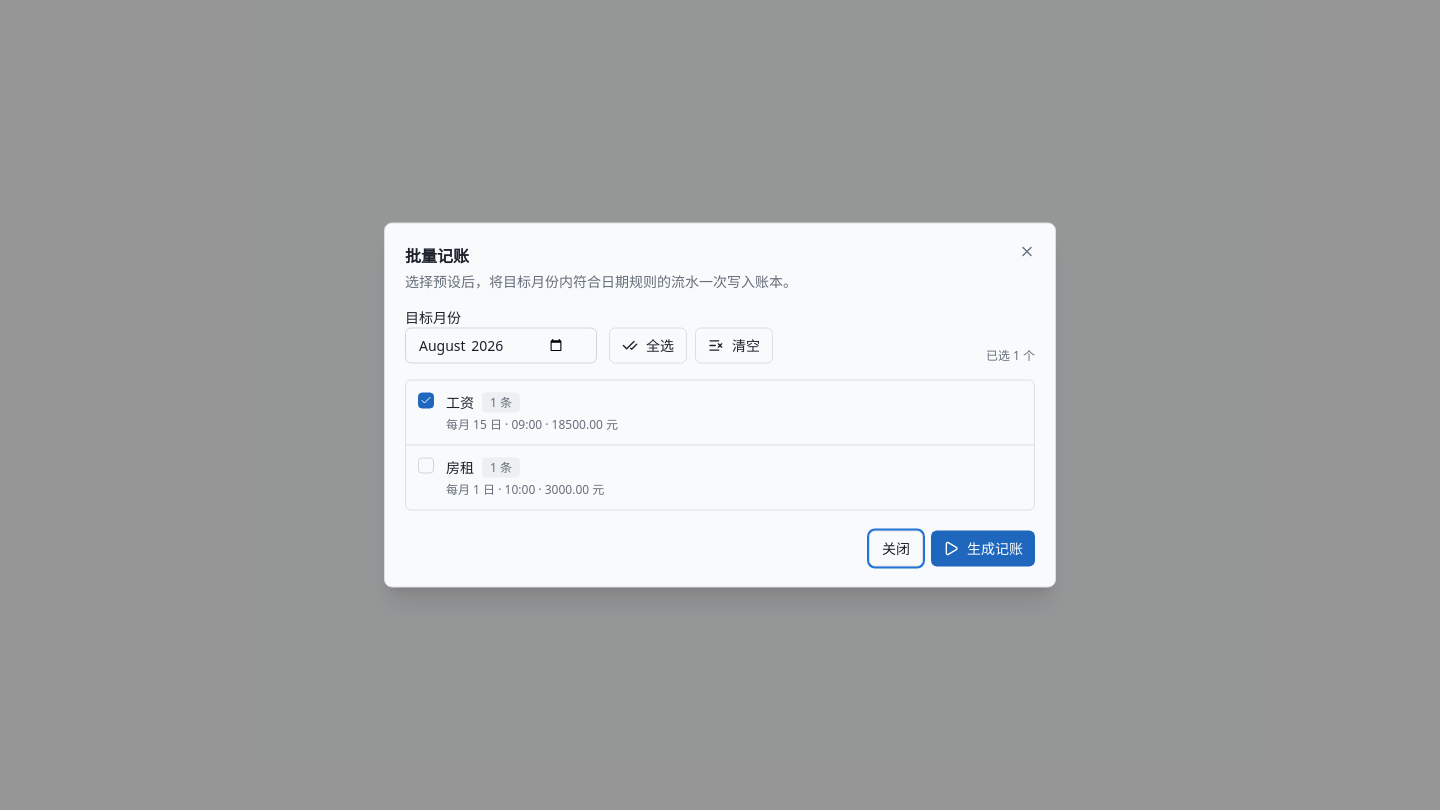
Test: BatchPresetDialog › uses default selection and passes the edited target month
The width and height of the screenshot is (1440, 810).
Check: the text "工资" is shown, box [446,392,474,412]
Replace the text in the field labelled "目标月份" with "2026-09" at (501, 346), box [405,328,597,364]
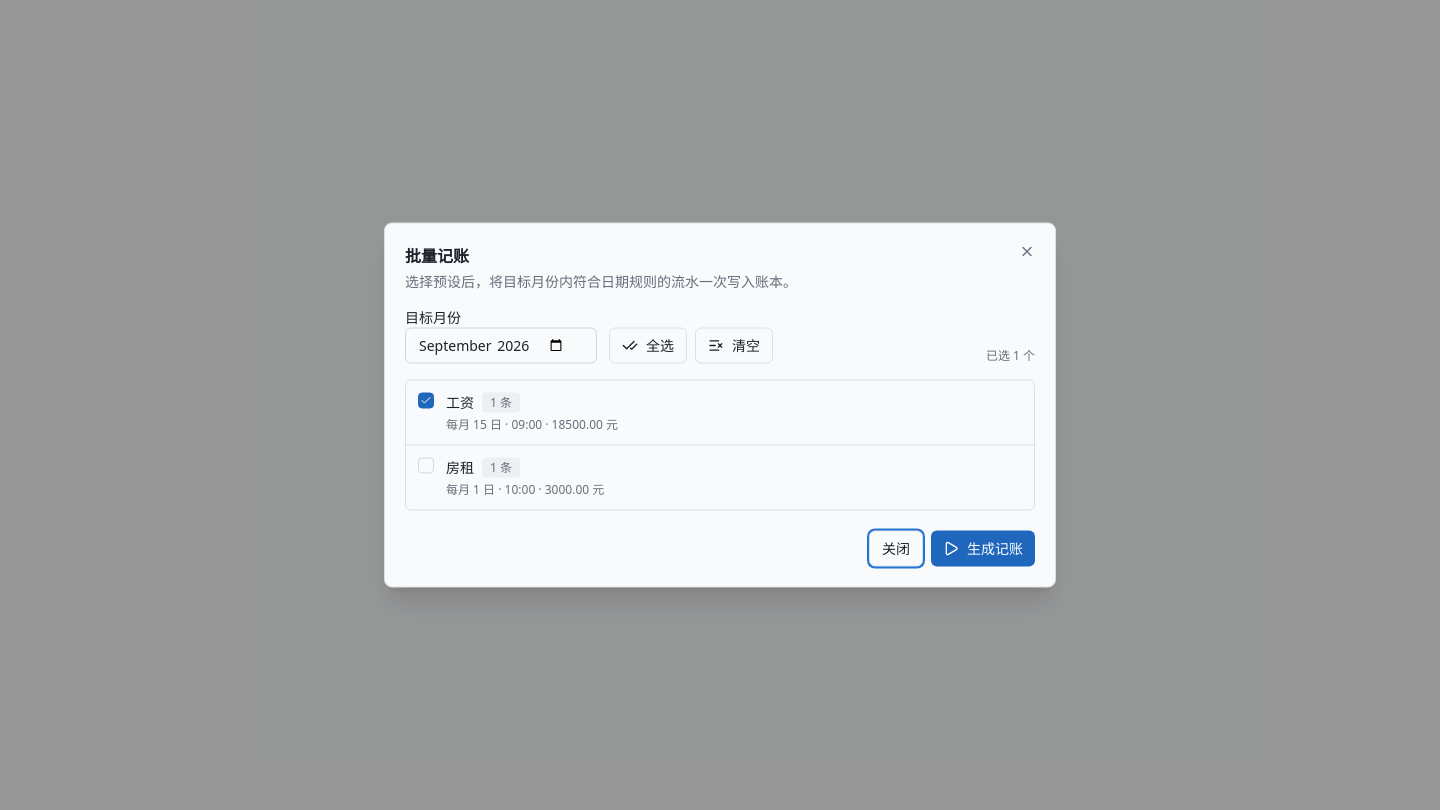
Click the button "生成记账".
click(983, 548)  # box [931,530,1035,566]
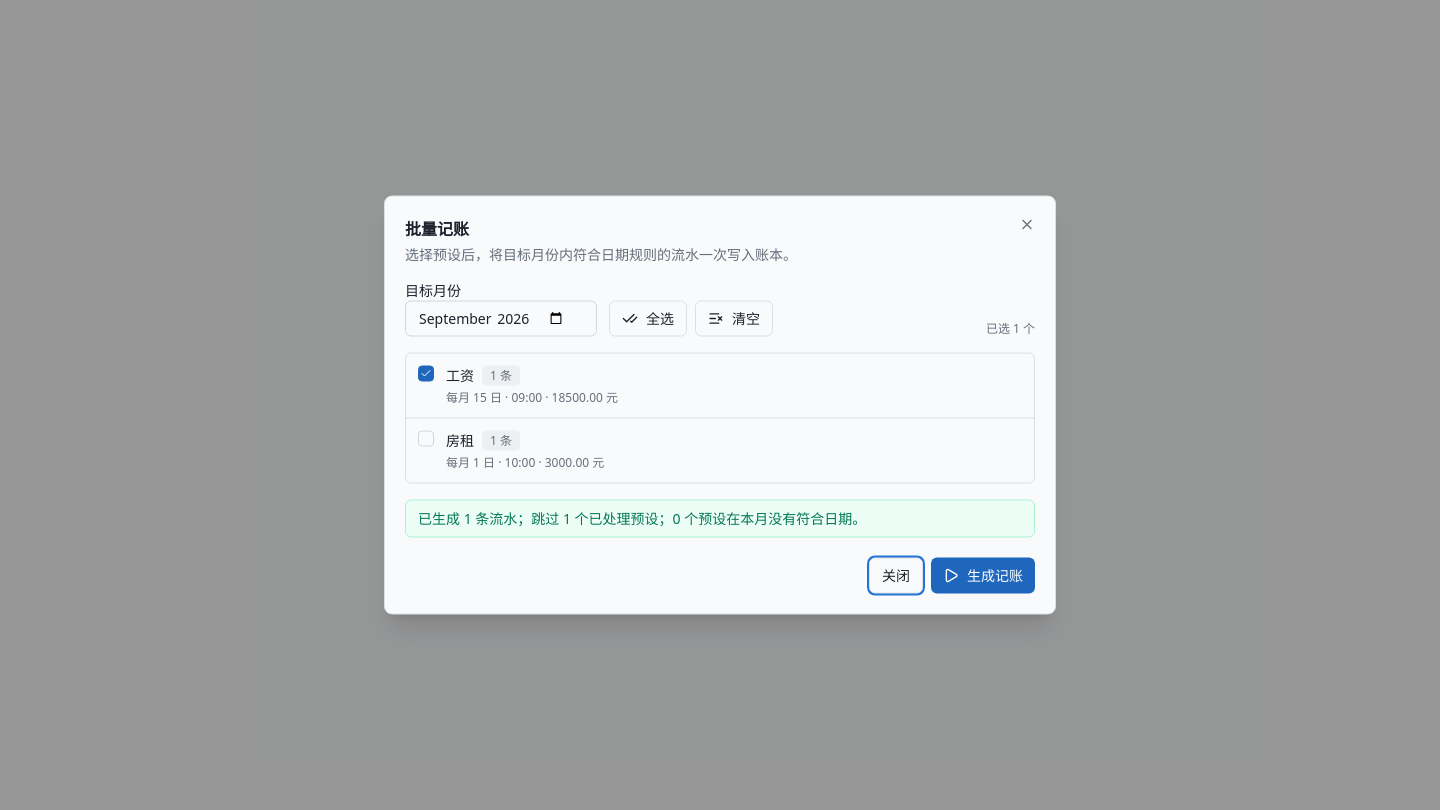
Check: the text "已生成 1 条流水；跳过 1 个已处理预设；0 个预设在本月没有符合日期。" is shown, box [405,500,1035,538]
